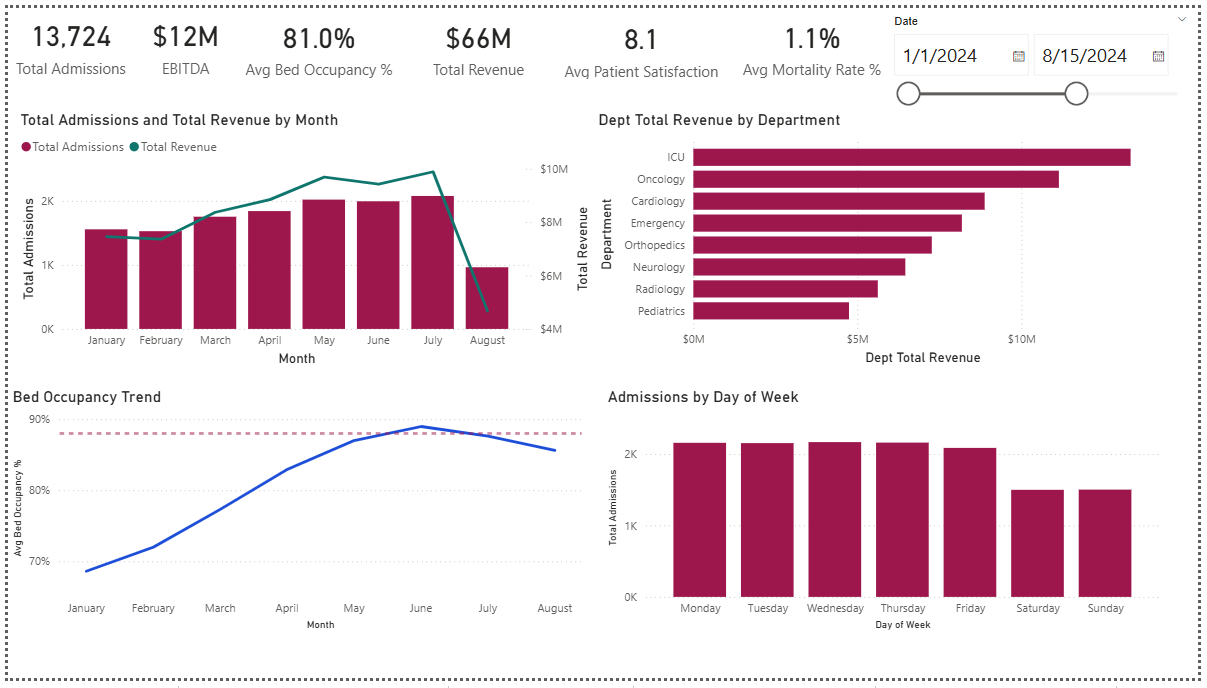

This screenshot's page, from the dashboard's own definition file:
{"tool":"powerbi","page":{"name":"Executive Summary","canvas":[1280,720],"ordinal":0},"visuals":[{"type":"card","fields":{"Values":["_Measures.EBITDA"]},"box":[135,0,111.7,78.3],"z":0},{"type":"card","fields":{"Values":["_Measures.Total Admissions"]},"box":[0,0,135,78.3],"z":1000},{"type":"card","fields":{"Values":["_Measures.Avg Patient Satisfaction"]},"box":[590,4,182,78],"z":2000},{"type":"card","fields":{"Values":["_Measures.Avg Bed Occupancy %"]},"box":[246.7,0,175,81.7],"z":3000},{"type":"card","fields":{"Values":["_Measures.Avg Mortality Rate %"]},"box":[771.7,0,185,81.7],"z":4000},{"type":"card","fields":{"Values":["_Measures.Total Revenue"]},"box":[421.7,0,168.3,81.7],"z":5000},{"type":"lineStackedColumnComboChart","fields":{"Category":["Daily_KPIs.Date.Variation.Date Hierarchy.Month"],"Y":["_Measures.Total Admissions"],"Y2":["_Measures.Total Revenue"]},"box":[8.3,110,621.7,280],"z":6000},{"type":"clusteredBarChart","fields":{"Category":["Department_Daily.Department"],"Y":["_Measures.Dept Total Revenue"]},"box":[630,110,621.7,278.3],"z":7000},{"type":"lineChart","title":"Bed Occupancy Trend","fields":{"Category":["Daily_KPIs.Date.Variation.Date Hierarchy.Month"],"Y":["_Measures.Avg Bed Occupancy %"]},"box":[0,408.3,621.7,265],"z":8000},{"type":"clusteredColumnChart","title":"Admissions by Day of Week","fields":{"Category":["Daily_KPIs.Day of Week"],"Y":["_Measures.Total Admissions"]},"box":[640,408.3,603.3,265],"z":9000},{"type":"slicer","fields":{"Values":["Daily_KPIs.Date"]},"box":[940,1.7,340,121.7],"z":10000}]}

Visuals, with their boxes in screenshot pixels (x1, y1, x2, y2), scaled from the page's 1280x720 canvas onto the 1207x688 screenshot:
card - _Measures.EBITDA: bbox=[127, 0, 233, 75]
card - _Measures.Total Admissions: bbox=[0, 0, 127, 75]
card - _Measures.Avg Patient Satisfaction: bbox=[556, 4, 728, 78]
card - _Measures.Avg Bed Occupancy %: bbox=[233, 0, 398, 78]
card - _Measures.Avg Mortality Rate %: bbox=[728, 0, 902, 78]
card - _Measures.Total Revenue: bbox=[398, 0, 556, 78]
lineStackedColumnComboChart - Daily_KPIs.Date.Variation.Date Hierarchy.Month x _Measures.Total Admissions: bbox=[8, 105, 594, 373]
clusteredBarChart - Department_Daily.Department x _Measures.Dept Total Revenue: bbox=[594, 105, 1180, 371]
"Bed Occupancy Trend" lineChart: bbox=[0, 390, 586, 643]
"Admissions by Day of Week" clusteredColumnChart: bbox=[604, 390, 1172, 643]
slicer - Daily_KPIs.Date: bbox=[886, 2, 1206, 118]
